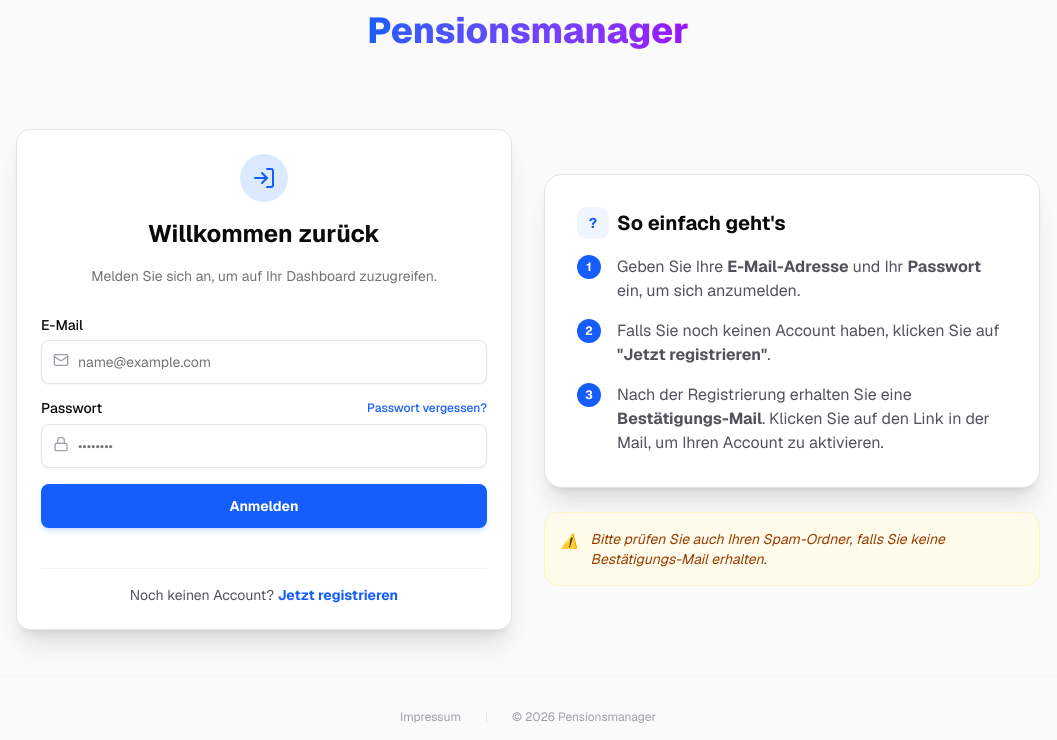
Test: LoginPage › toggles forgot password mode and sends password reset email
The image size is (1057, 740).
Click "Passwort vergessen?" button
Click the button "Passwort vergessen?" at (427, 408), box [367,400,487,416]
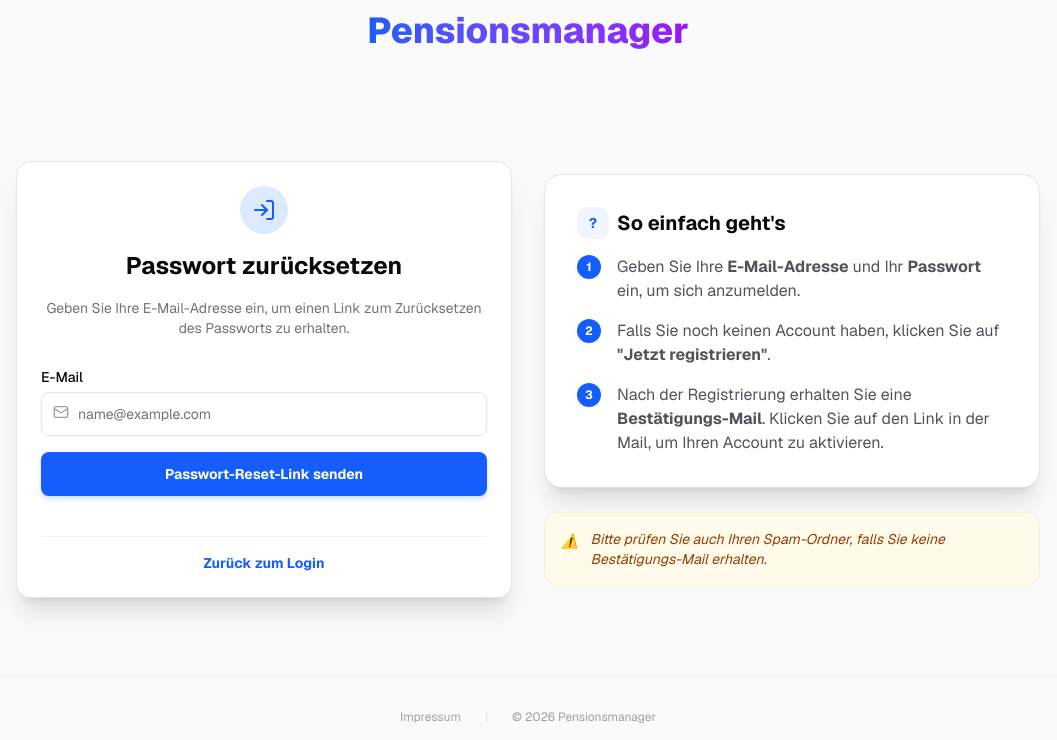
Expected: the text "Passwort zurücksetzen" is shown, [126,250,402,281]
Fill in email
Type "reset@example.com" into the field with placeholder "name@example.com" at (264, 414), box [41,392,487,436]
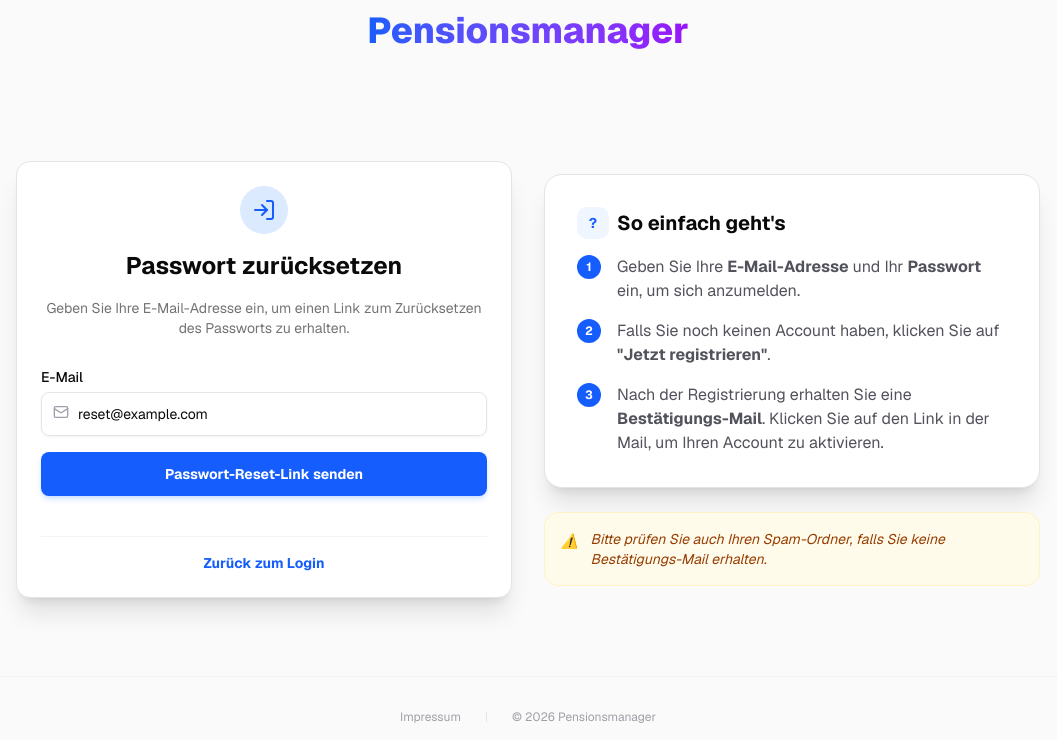
Click send reset link
Click the button "Passwort-Reset-Link senden" at (264, 474), box [41,452,487,496]
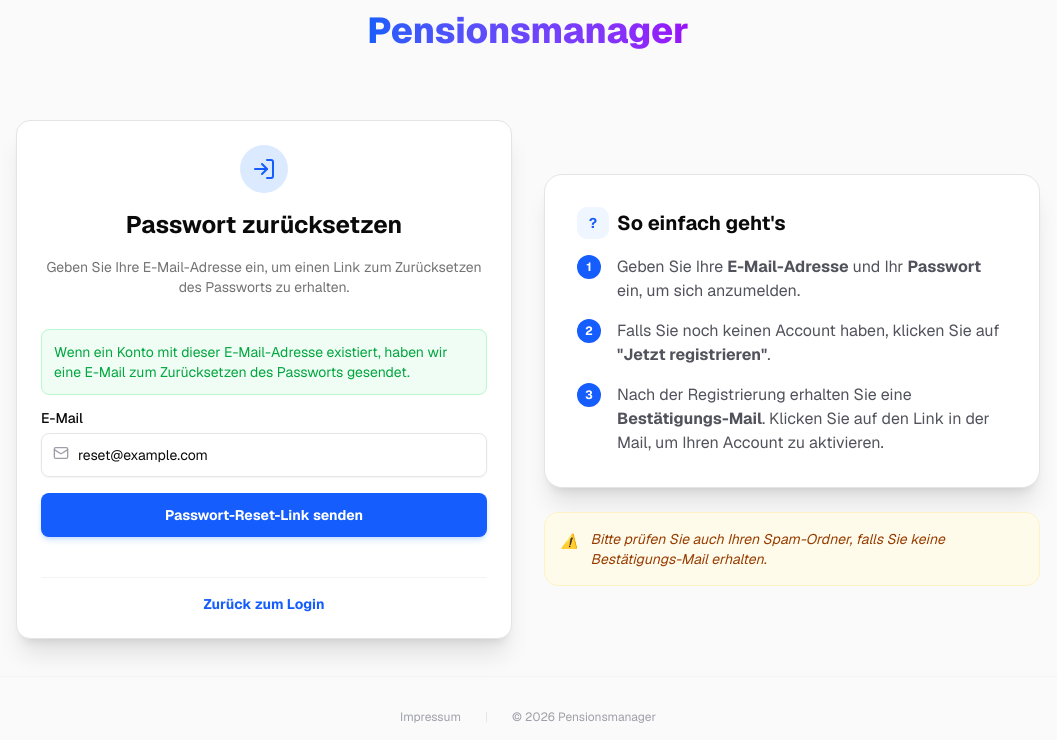
Expected: the text "Wenn ein Konto mit dieser E-Mail-Adresse existiert" is shown, [54,343,448,381]
